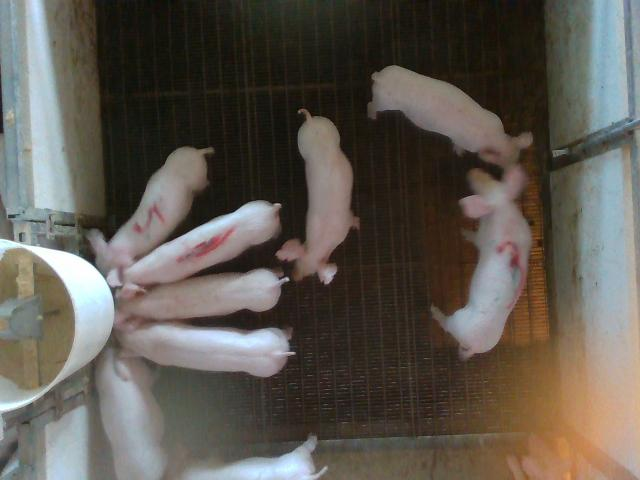pig-1: (124, 200, 281, 286)
pig-3: (431, 165, 531, 359)
pig-5: (88, 149, 213, 286)
